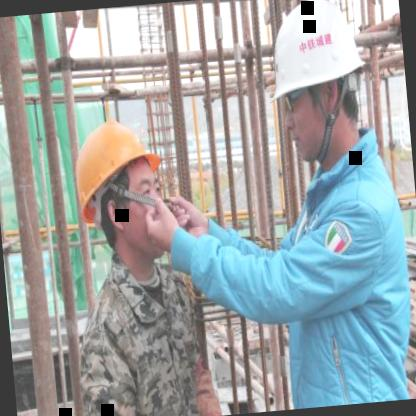helmet: (61, 110, 188, 271), (267, 0, 375, 169)
